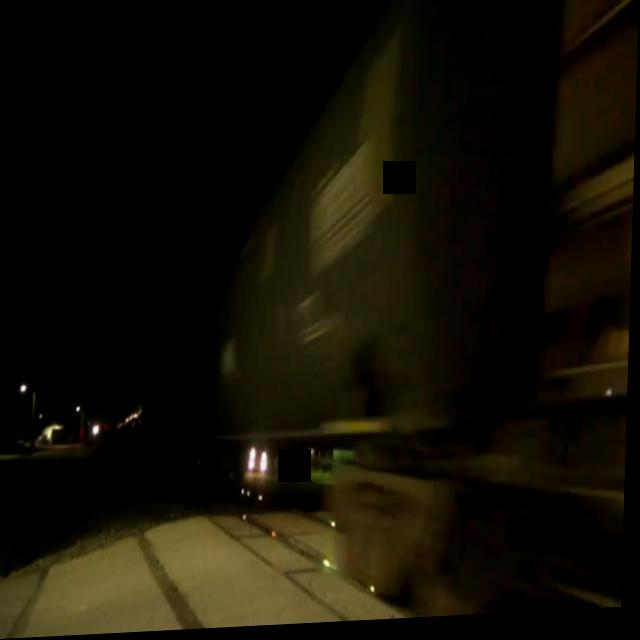tank: (160, 0, 550, 633)
